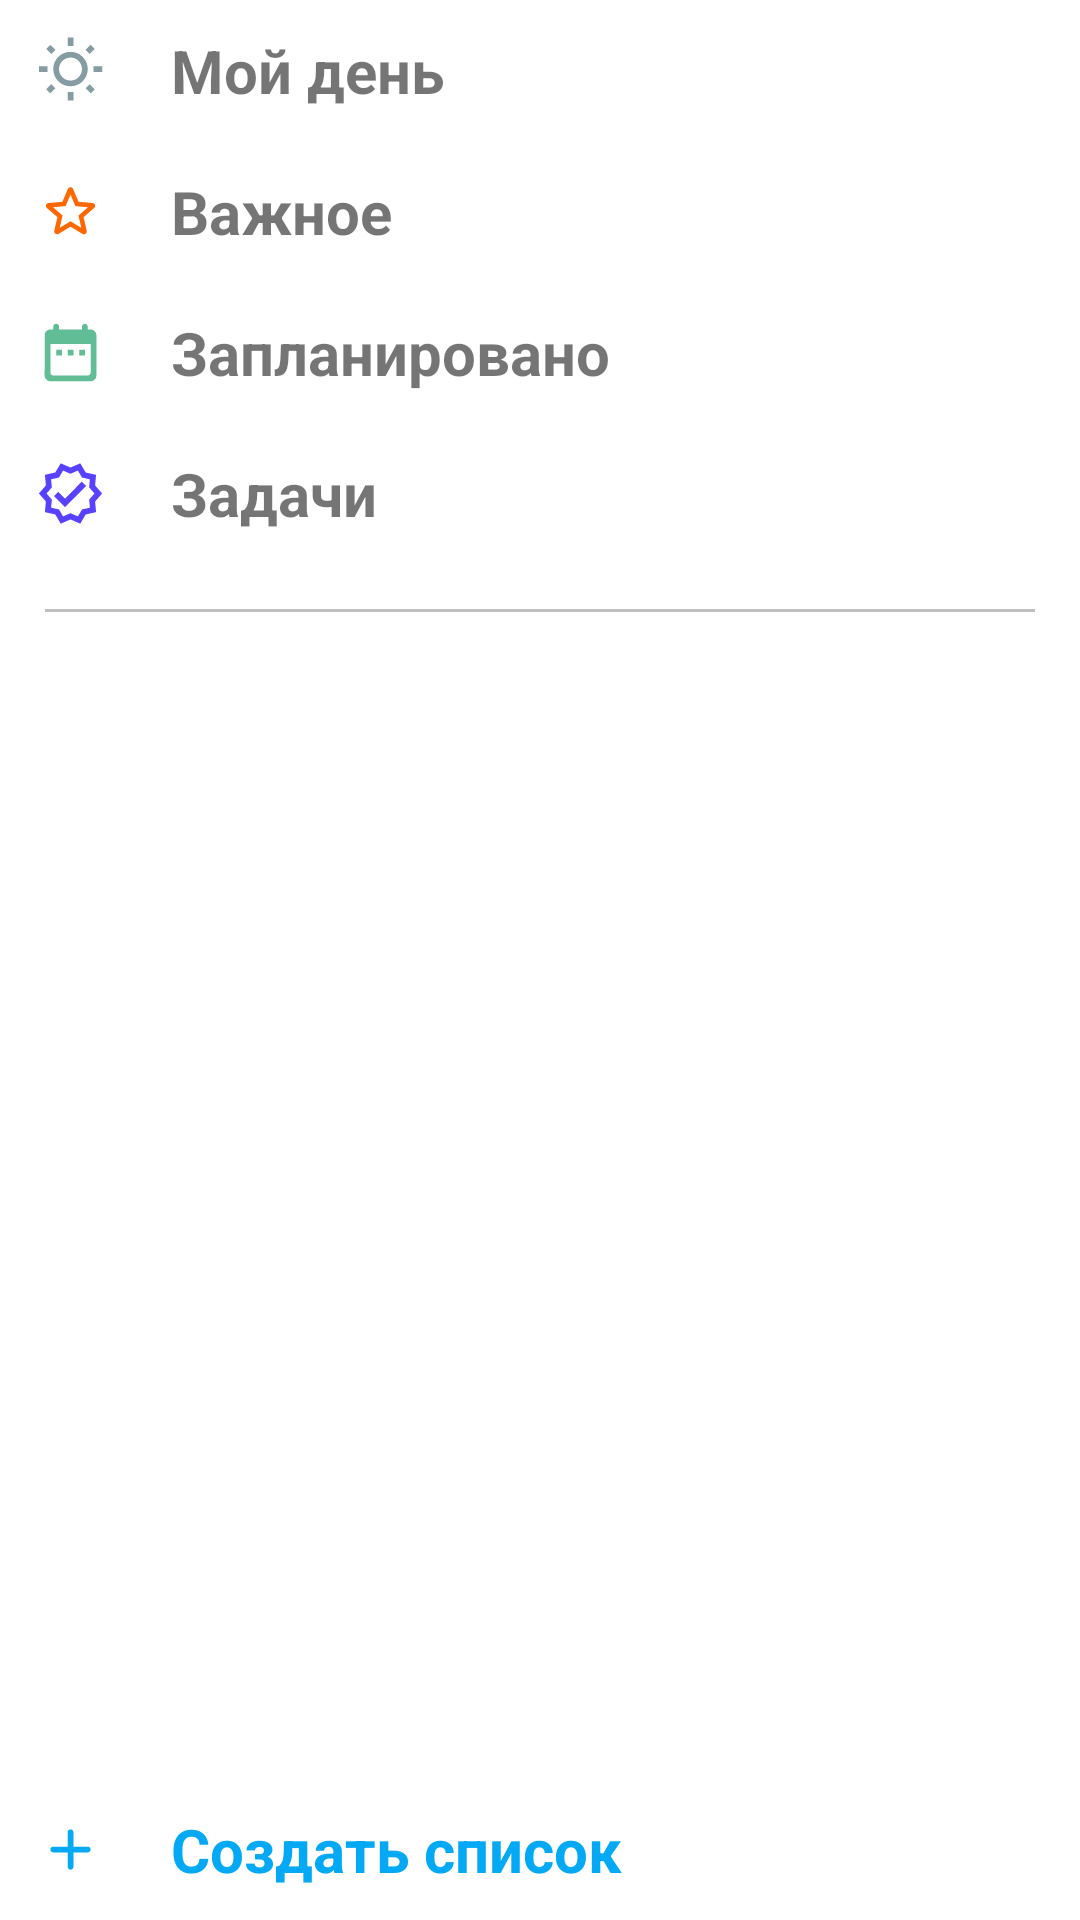

Screen size 1080w x 1920h. Icon name, then its box in pixels as (x1,y1,x2,y2):
add: (50,1829,91,1870)
day: (39,37,103,101)
important: (46,187,95,235)
planned: (44,323,97,382)
tasks: (39,463,102,524)
